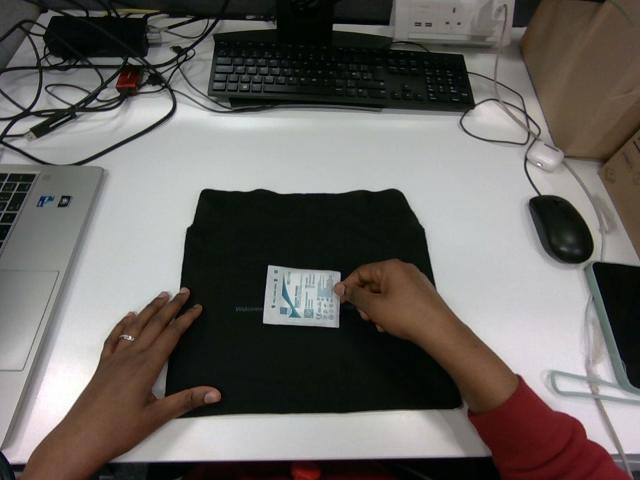gauze: (263, 265, 338, 326)
